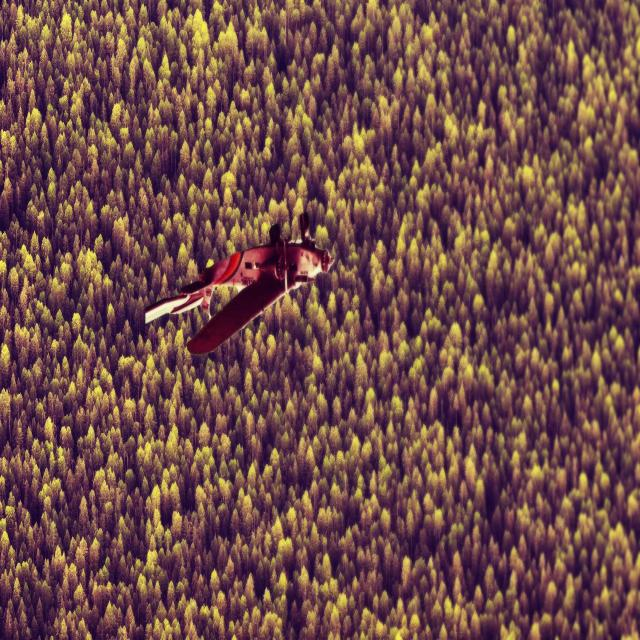airplane: (144, 210, 334, 356)
